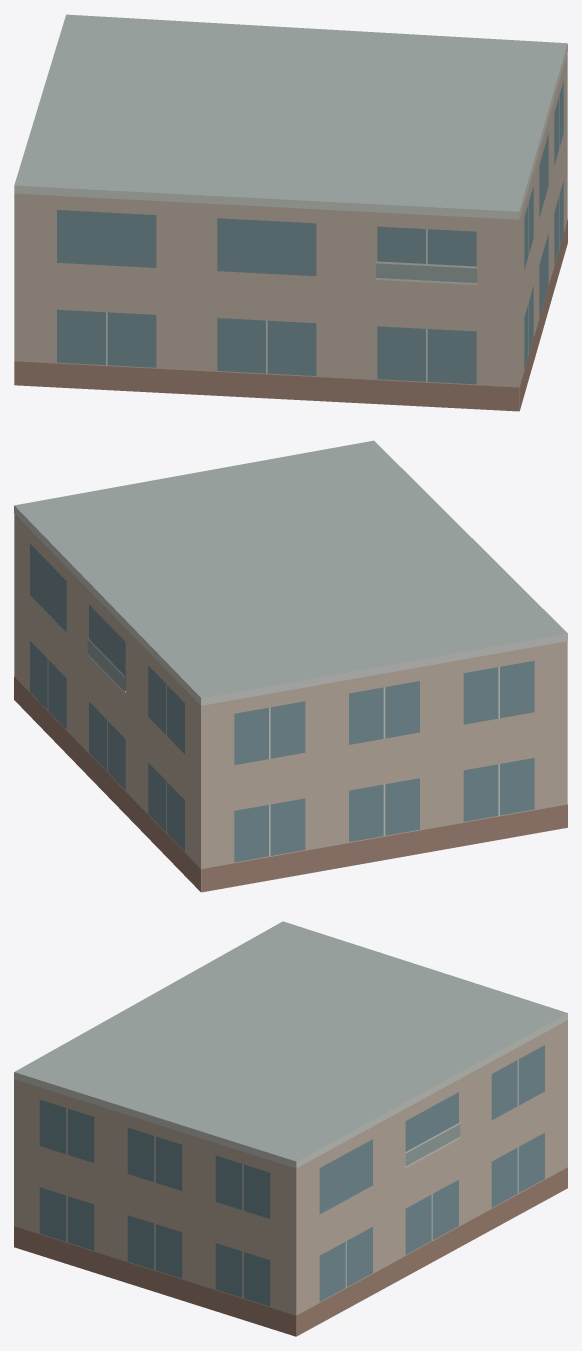
File: survey-upis-32654937.glb
The picture shows the model from 3 angles, top to bottom: view 1: azimuth 30°, elevation 25°; view 2: azimuth 150°, elevation 25°; view 3: azimuth 270°, elevation 25°; orthographic projection. The views are drawn at different scales.
Visible parts, largest first — view 1: survey-upis-32654937.tmp; view 2: survey-upis-32654937.tmp; view 3: survey-upis-32654937.tmp.
Boxes of the visible parts, x1,y1,x2,y2 form: survey-upis-32654937.tmp: (14, 14, 567, 411); survey-upis-32654937.tmp: (14, 440, 567, 892); survey-upis-32654937.tmp: (14, 921, 567, 1336).
Bounding box in the file's own units: 17.96 × 6.1 × 17.49.
